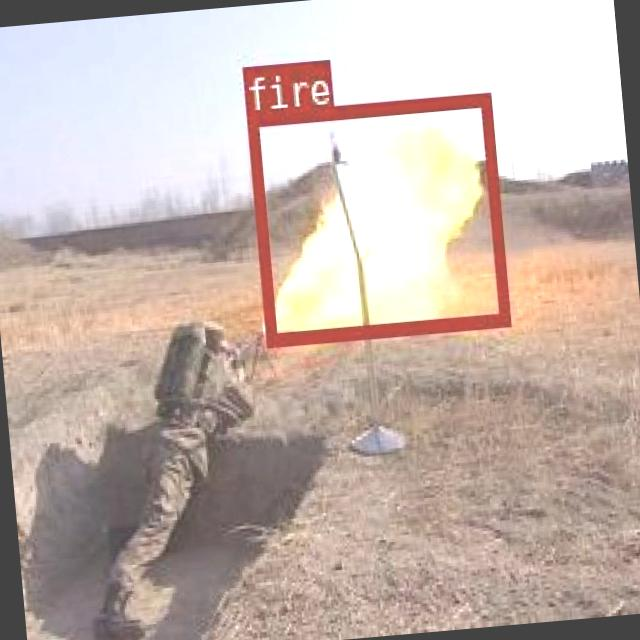fire: (246, 90, 508, 344)
